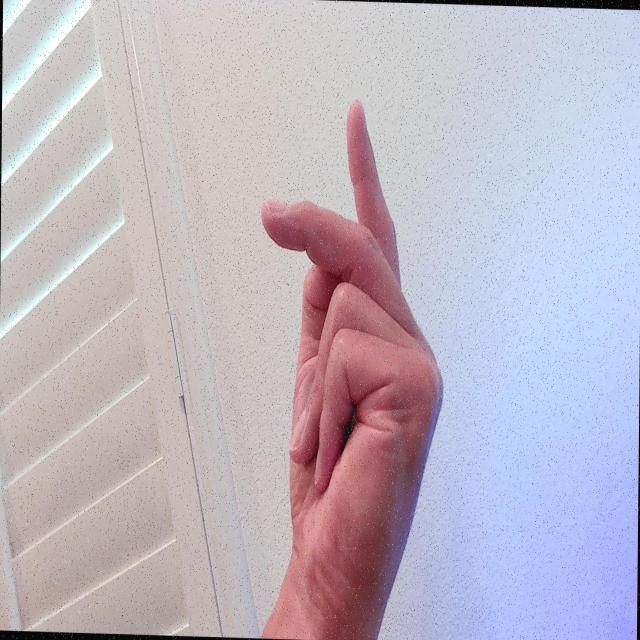P: (254, 90, 451, 626)
